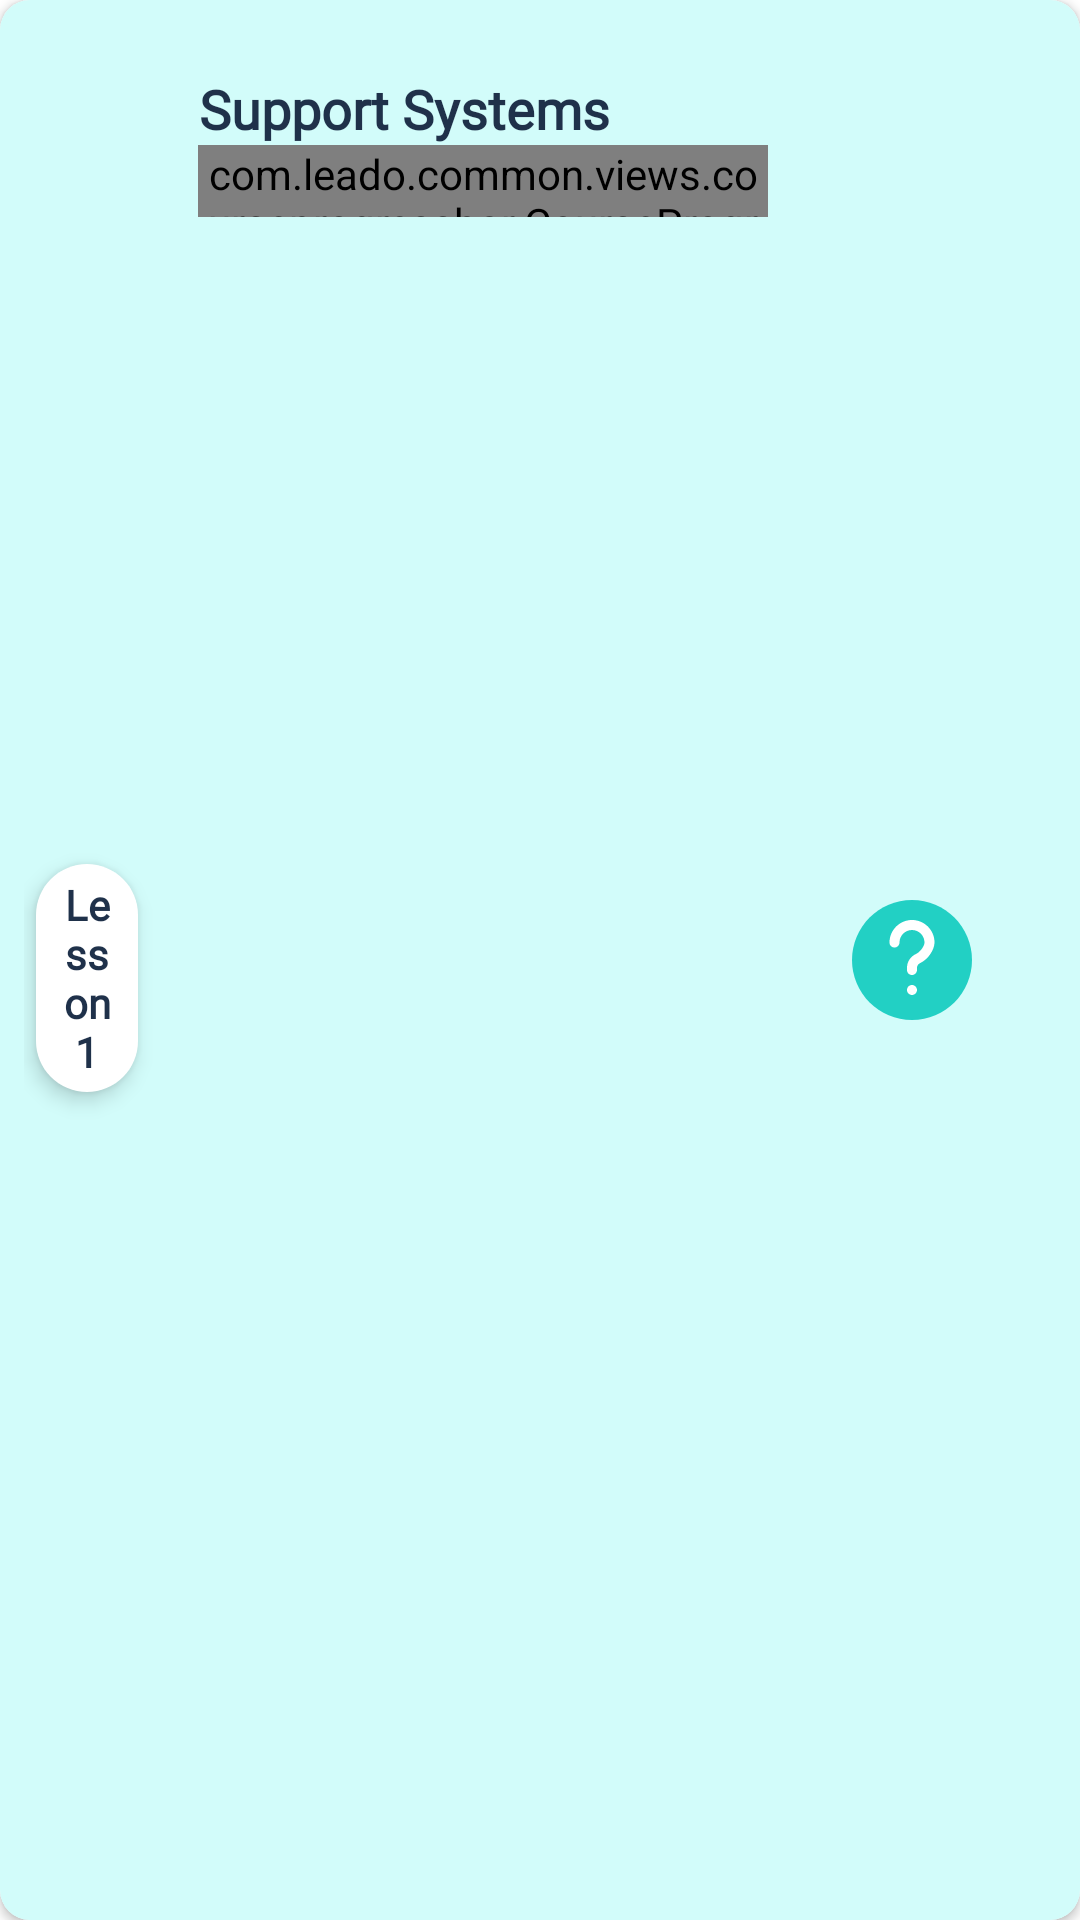

Named icons in this screenshot (1080 × 1920) and their centers, (x,y):
quiz: (912,960)
